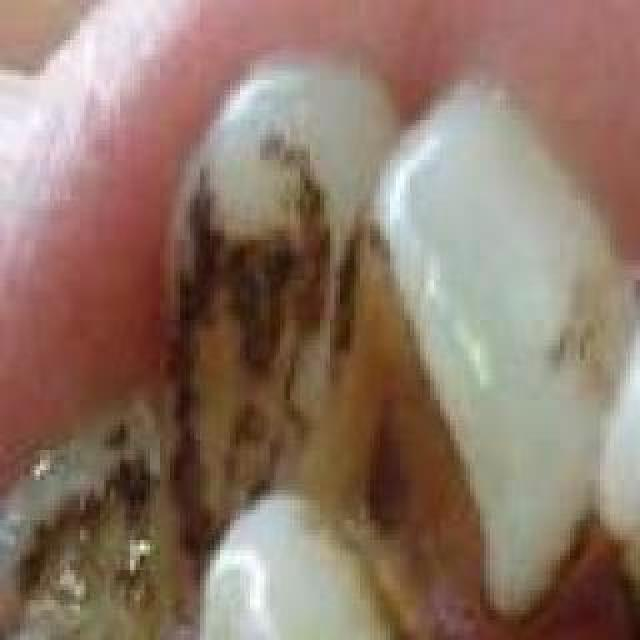maligned: (294, 118, 640, 640), (140, 87, 438, 497), (136, 518, 514, 640), (590, 208, 640, 640)
stains: (332, 121, 640, 627), (160, 210, 356, 500), (268, 490, 454, 640), (14, 464, 170, 640), (624, 484, 640, 640)
